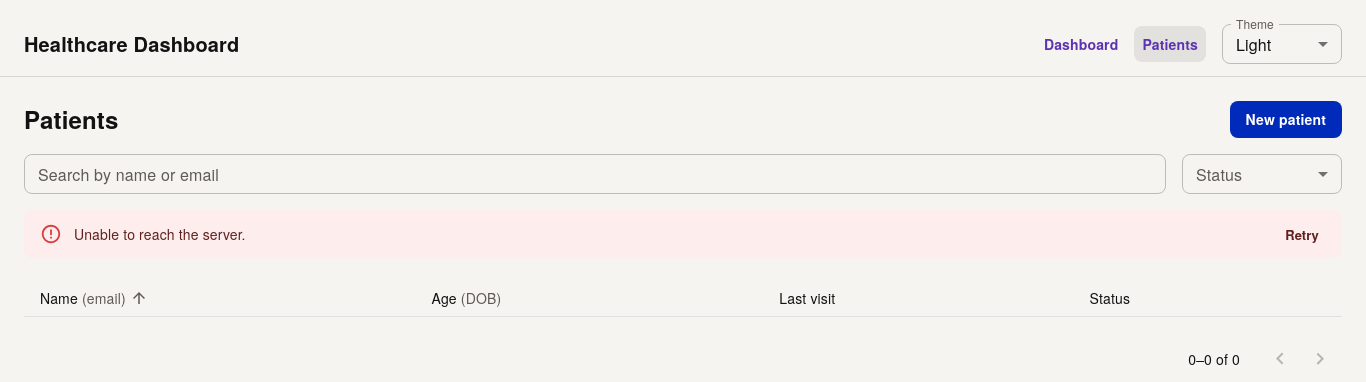
Test: Patients page › shows errors with a retry action
Click the button "Retry" at (1302, 235), box 1270,220 -> 1334,250
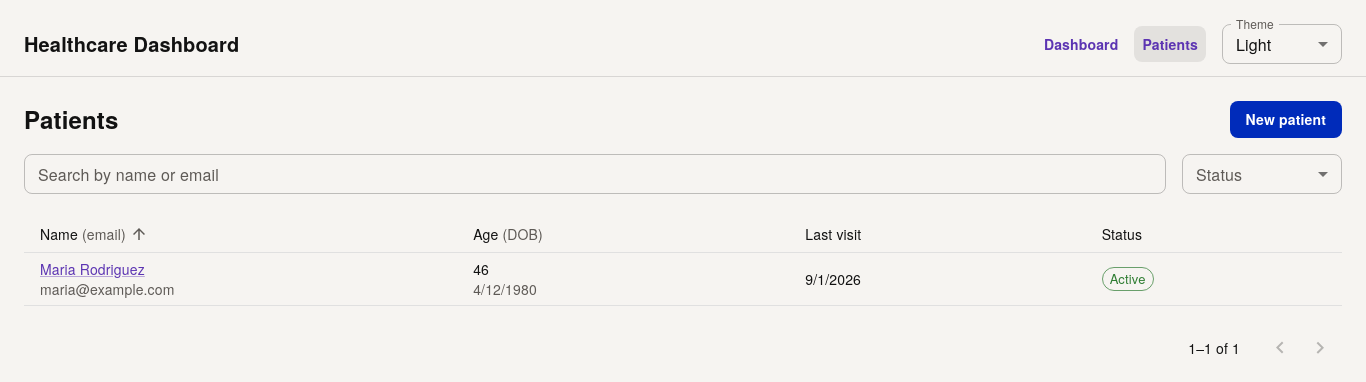
Result: the link "Maria Rodriguez" is shown at 40,259 -> 145,279
